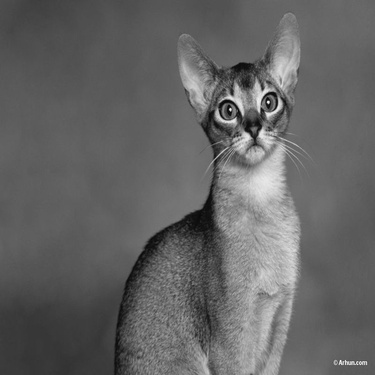cat: (110, 11, 303, 368)
